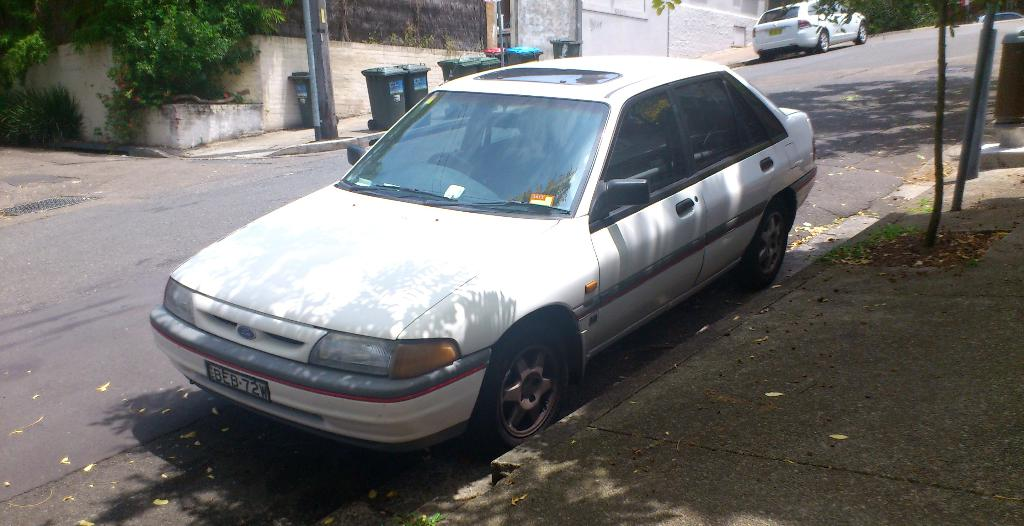Car: (146, 56, 816, 444), (752, 0, 874, 45)
